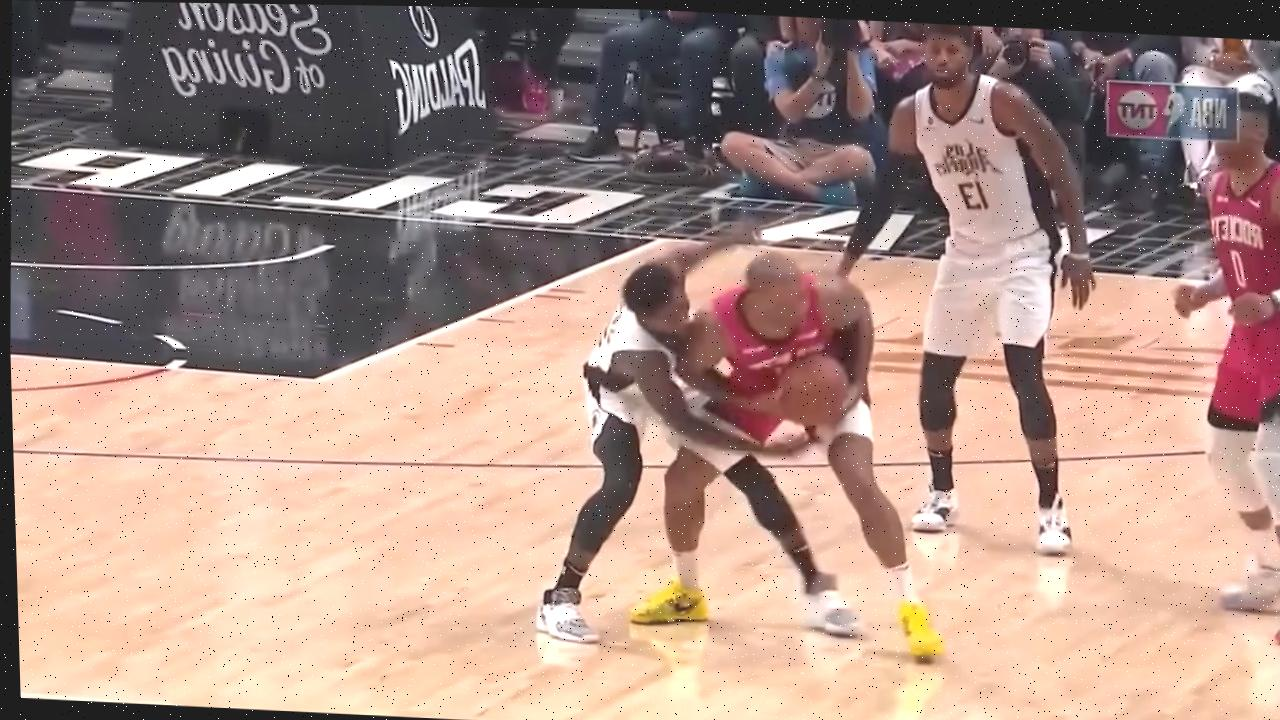foul: (507, 226, 949, 667)
